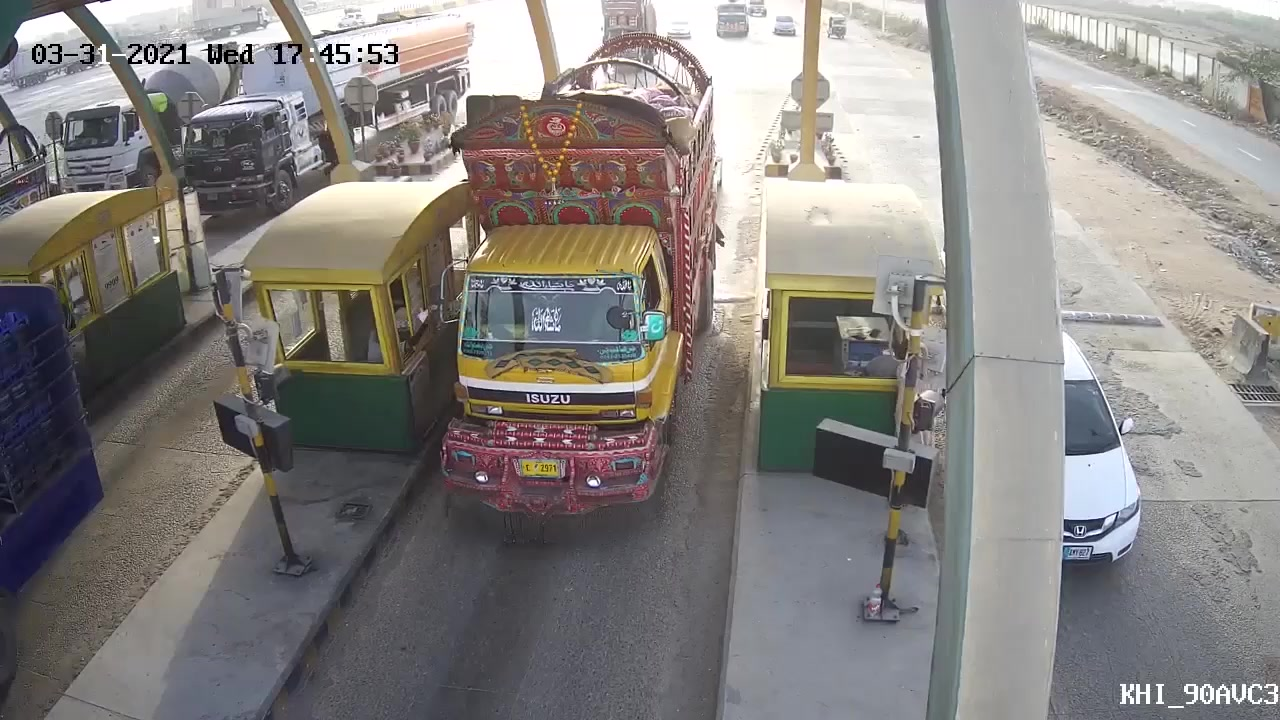F5: (430, 94, 708, 530)
